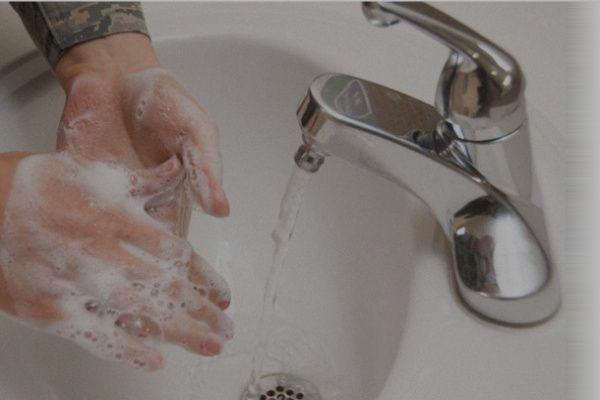washing hand: (0, 11, 418, 399)
